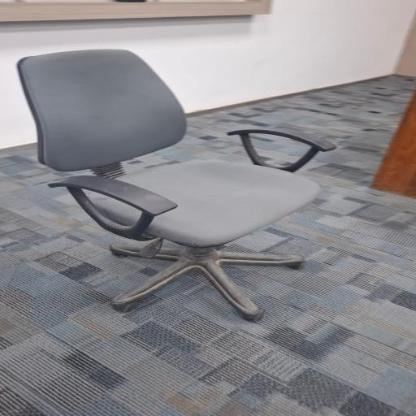chair: (10, 40, 343, 322)
